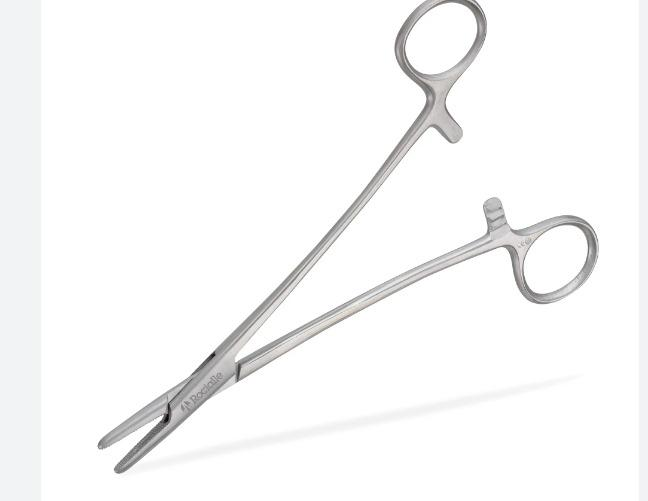Needle Holder: (90, 0, 602, 475)
